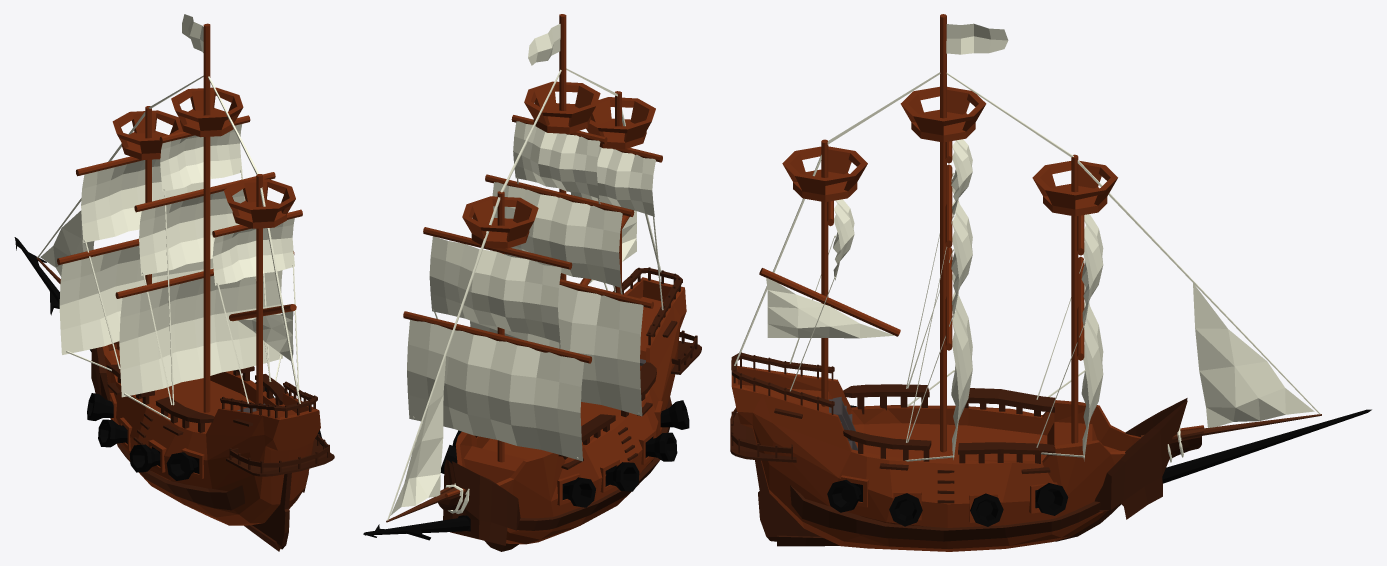
File: ship-1.fbx
The picture shows the model from 3 angles, left to right: view 1: azimuth 30°, elevation 25°; view 2: azimuth 150°, elevation 25°; view 3: azimuth 270°, elevation 25°; orthographic projection. The views are drawn at different scales.
Visible parts, largest first — view 1: Plane.002, Plane, Plane.010, Plane.001, Plane.011, Plane.008, Plane.007, Cylinder.005, Plane.004, Cylinder.015, Cylinder.014, Cylinder.016 (+22 smaller); view 2: Plane.010, Plane.002, Plane.011, Plane, Plane.001, Plane.004, Plane.007, Plane.012, Plane.008, Cylinder.016, Cylinder.014, Cylinder.015 (+19 smaller); view 3: Plane.002, Plane.004, Plane.012, Plane.006, Plane.009, Cylinder.015, Cylinder.014, Cylinder.016, Cylinder.005, Cube.035, Plane, Cylinder.003 (+17 smaller).
Boxes of the visible parts, x1,y1,x2,y2 form: Plane.002: (102, 343, 320, 525); Plane: (119, 270, 282, 397); Plane.010: (59, 245, 213, 354); Plane.001: (139, 189, 244, 275); Plane.011: (81, 159, 203, 242); Plane.008: (212, 218, 294, 285); Plane.007: (160, 124, 242, 191); Cylinder.005: (203, 23, 210, 412); Plane.004: (91, 347, 308, 510); Cylinder.015: (223, 179, 295, 228); Cylinder.014: (171, 87, 243, 137); Cylinder.016: (112, 110, 182, 159); Plane.010: (407, 319, 583, 461); Plane.002: (455, 277, 686, 544); Plane.011: (429, 236, 561, 342); Plane: (470, 284, 643, 416); Plane.001: (492, 182, 622, 287); Plane.004: (443, 396, 671, 545); Plane.007: (513, 121, 600, 198); Plane.012: (390, 355, 446, 515); Plane.008: (570, 147, 655, 216); Cylinder.016: (462, 196, 538, 248); Cylinder.014: (524, 81, 600, 133); Cylinder.015: (586, 97, 655, 149); Plane.002: (731, 366, 1140, 551); Plane.004: (790, 398, 1187, 541); Plane.012: (1193, 283, 1314, 427); Plane.006: (843, 384, 1055, 455); Plane.009: (766, 277, 894, 338); Cylinder.015: (782, 146, 867, 202); Cylinder.014: (900, 86, 986, 142); Cylinder.016: (1032, 160, 1117, 216); Cylinder.005: (940, 14, 946, 452); Cube.035: (734, 72, 1320, 414); Plane: (951, 256, 972, 459); Cylinder.003: (1162, 409, 1371, 483).
Bounding box in the file's own units: 519 × 1323 × 1450.
